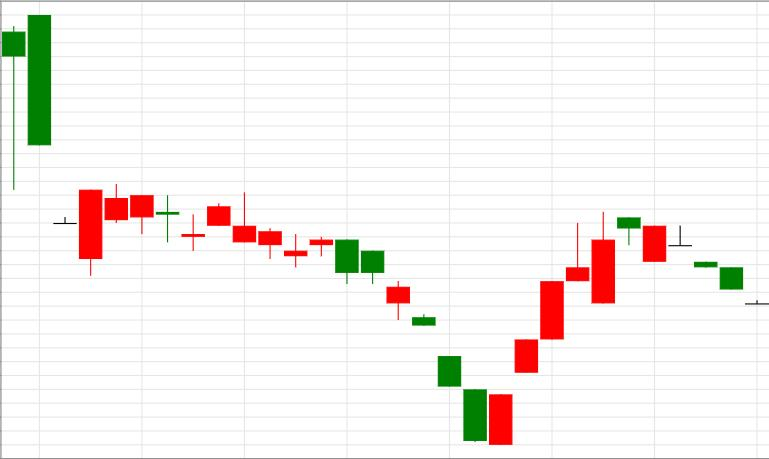three_white_soldiers_rise: (309, 236, 564, 444)
